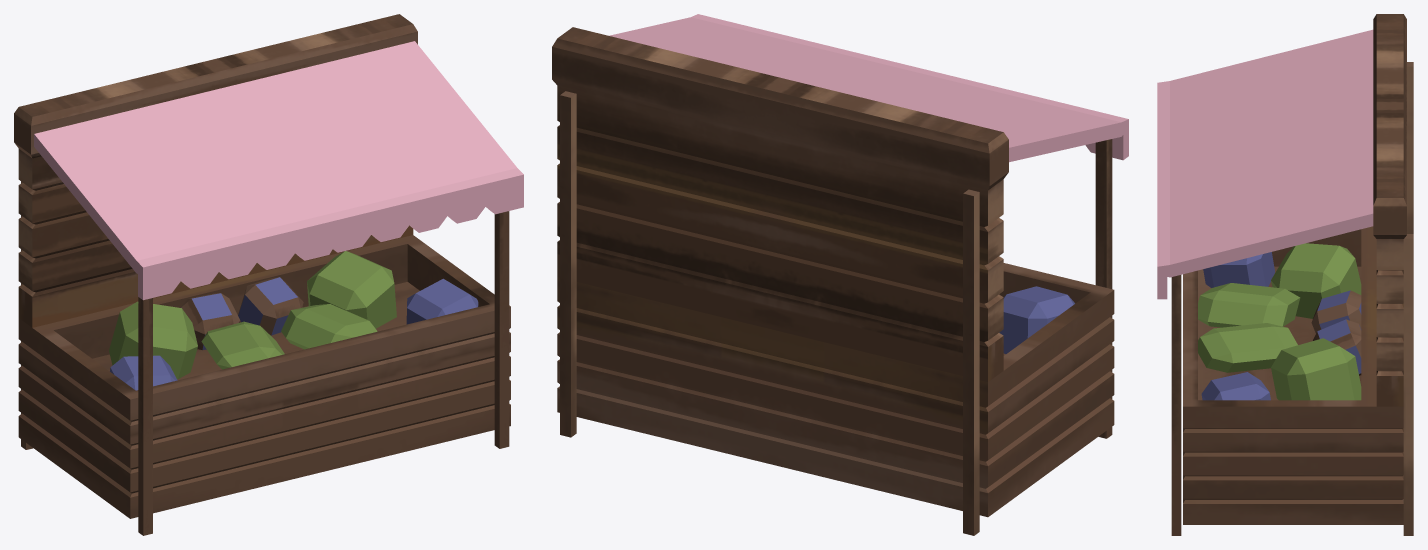
File: easyFarmStand.fbx
3 renders of one model, left to right at view 1: azimuth 30°, elevation 25°; view 2: azimuth 150°, elevation 25°; view 3: azimuth 270°, elevation 25°, orthographic. The views are drawn at different scales.
Visible parts, largest first — view 1: shop; view 2: shop; view 3: shop.
Boxes of the visible parts, x1,y1,x2,y2 form: shop: (14, 14, 523, 535); shop: (552, 14, 1128, 535); shop: (1157, 14, 1413, 535).
Bounding box in the file's own units: 142 × 121 × 82.4.
